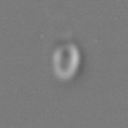normal: (56, 1, 81, 42)
